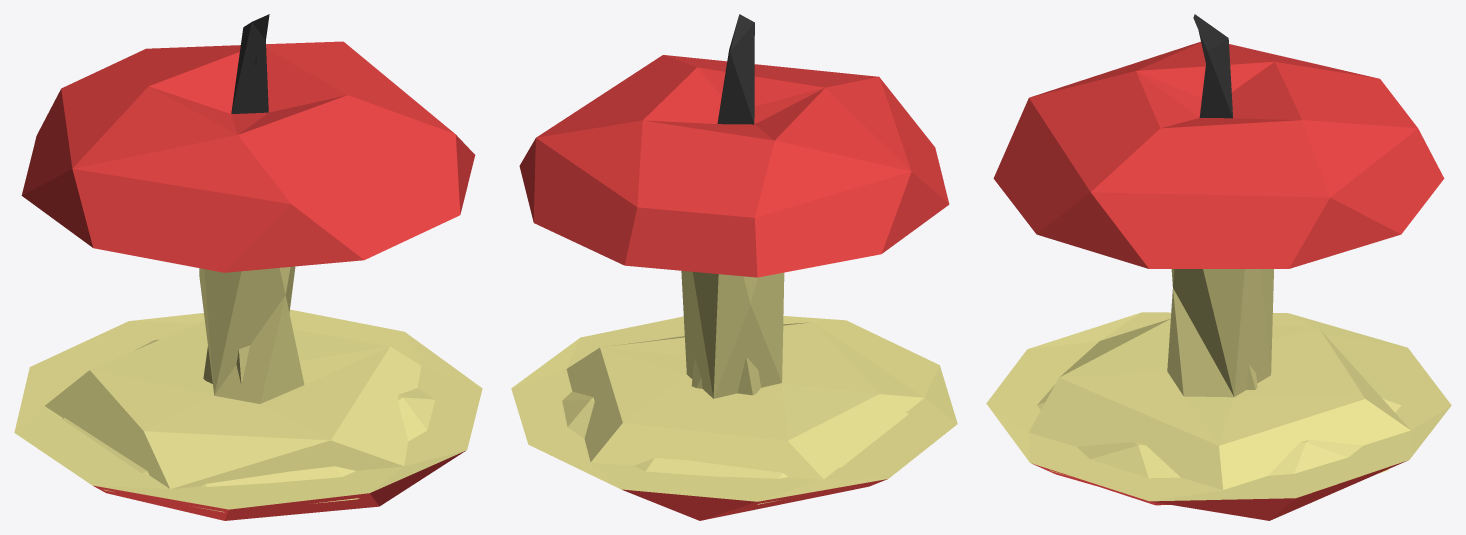
File: trognon_PommeR.fbx
The picture shows the model from 3 angles, left to right: view 1: azimuth 30°, elevation 25°; view 2: azimuth 150°, elevation 25°; view 3: azimuth 270°, elevation 25°; orthographic projection. The views are drawn at different scales.
Visible parts, largest first — view 1: Cylinder; view 2: Cylinder; view 3: Cylinder.
Part boxes in pixels (x1,y1,x2,y2): Cylinder: (14, 14, 482, 520); Cylinder: (511, 14, 957, 520); Cylinder: (986, 14, 1451, 520).
Size of the model in its own units: 373 by 407 by 390.
